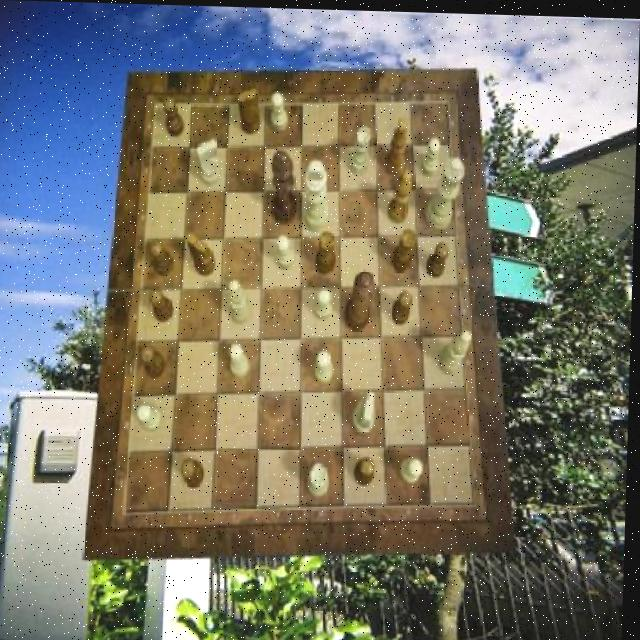bishop: (385, 115, 409, 173), (389, 168, 413, 222)
black-bishop: (270, 148, 299, 223)
black-king: (186, 232, 217, 275), (237, 86, 262, 132)
black-knight: (163, 98, 187, 137), (151, 287, 177, 321), (151, 239, 176, 274), (144, 344, 169, 378), (428, 239, 451, 274), (393, 288, 415, 322), (184, 459, 208, 488), (356, 456, 377, 484)
black-pawn: (345, 268, 376, 331)
black-queen: (394, 225, 418, 271), (317, 229, 338, 273)
black-rook: (441, 327, 474, 370), (230, 278, 255, 322)
white-bishop: (306, 158, 332, 229)
white-king: (198, 137, 223, 185), (355, 387, 379, 430)
white-knight: (423, 136, 443, 175), (230, 343, 252, 377), (271, 91, 289, 130), (141, 404, 166, 432), (318, 349, 336, 384), (277, 234, 295, 269), (403, 454, 427, 480), (316, 286, 334, 319)
white-pawn: (426, 153, 465, 228)
white-queen: (352, 124, 373, 173), (310, 461, 333, 496)
